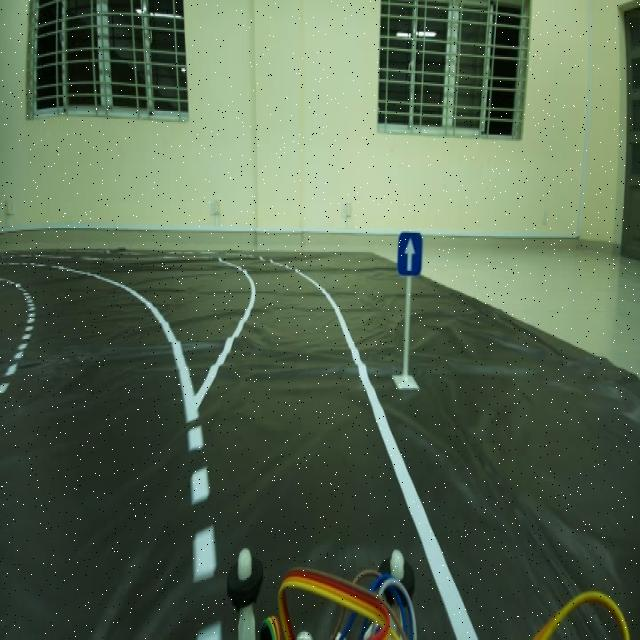onewayroad: (394, 229, 423, 278)
